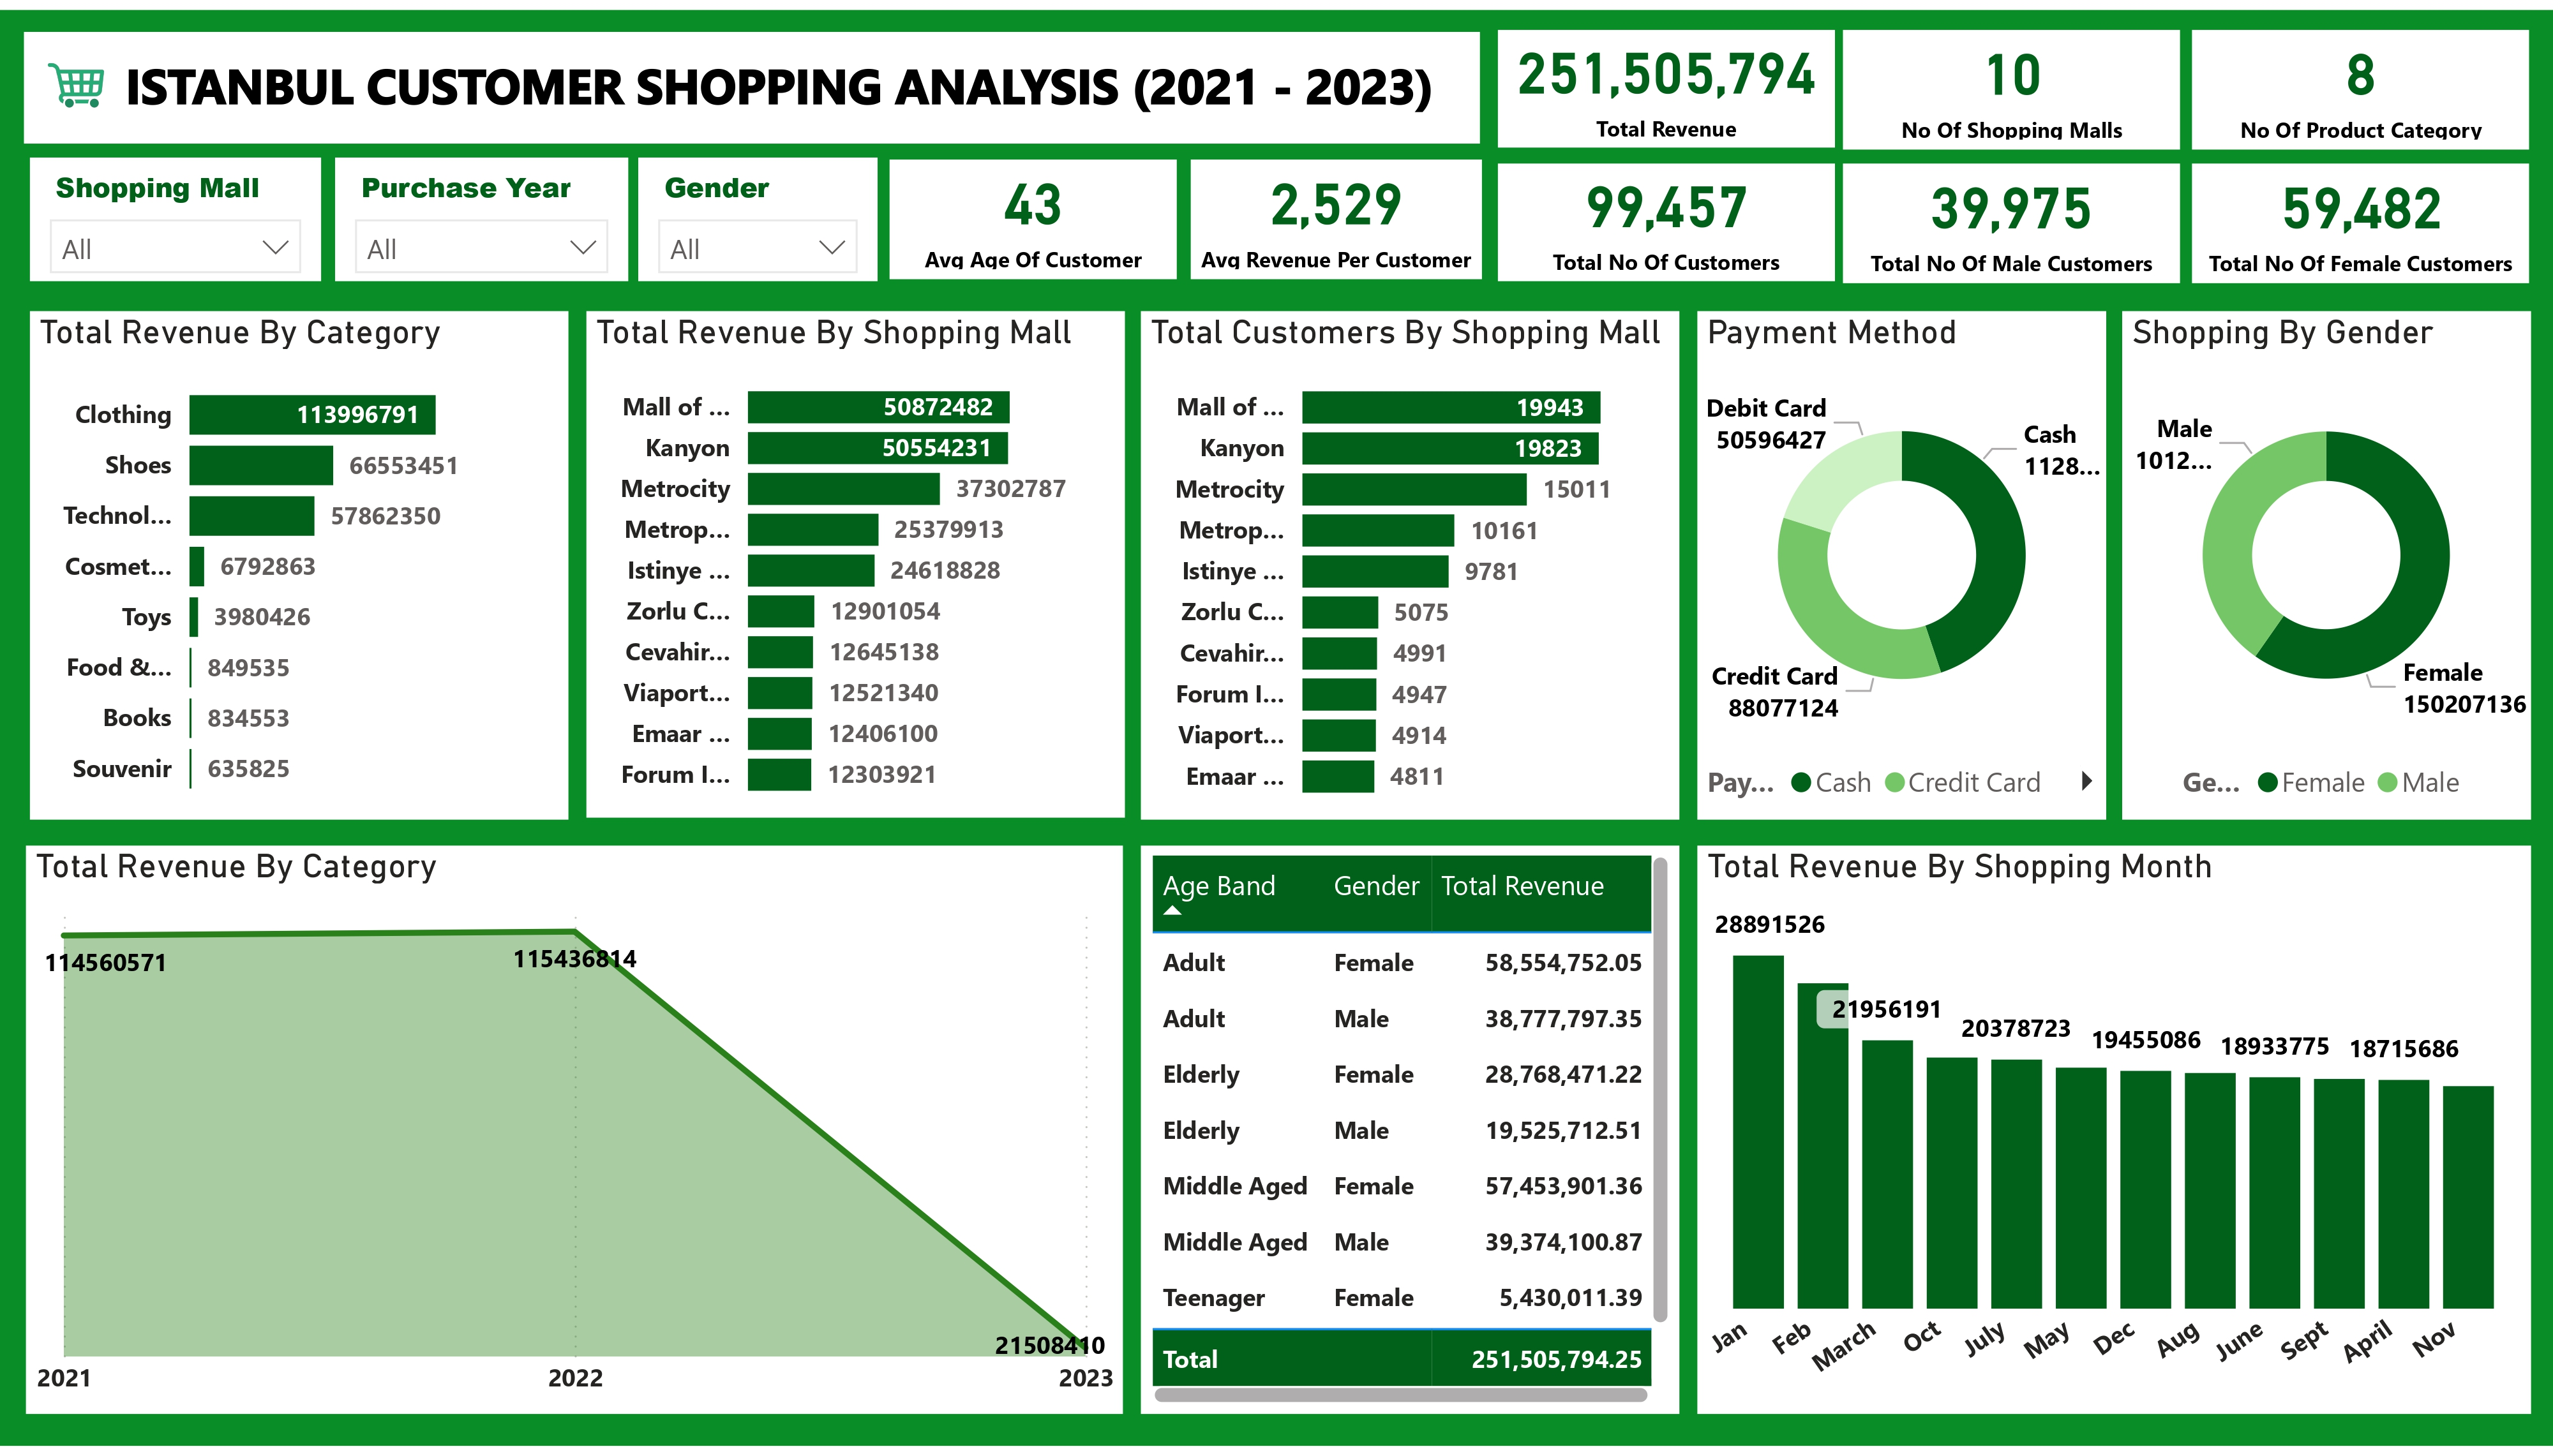

The page's visual inventory and layout, read from the dashboard file:
{"tool":"powerbi","page":{"name":"REPORT","canvas":[1280,720],"ordinal":0},"visuals":[{"type":"card","fields":{"Values":["DAX.Total Revenue"]},"box":[750.6,10.4,168.9,59.2],"z":0},{"type":"card","fields":{"Values":["DAX.Total No Of Customers"]},"box":[750.6,76.6,168.9,59.2],"z":1000},{"type":"card","fields":{"Values":["DAX.No Of Shopping Malls"]},"box":[924.4,10.1,169.4,60.4],"z":2000},{"type":"card","fields":{"Values":["DAX.No Of Category"]},"box":[1098.8,10.1,169.4,60.4],"z":3000},{"type":"card","fields":{"Values":["DAX.Total No Of Male Customers"]},"box":[924.4,77.2,169.4,60.4],"z":4000},{"type":"card","fields":{"Values":["DAX.Total No Of Female Customers"]},"box":[1098.8,77.2,169.4,60.4],"z":5000},{"type":"shape","box":[13.9,10.4,729.7,57.5],"z":6000},{"type":"card","fields":{"Values":["DAX.Avg Revenue Per Customer"]},"box":[597.2,75.5,146,60.4],"z":7000},{"type":"card","fields":{"Values":["DAX.Avg Age Of Customer"]},"box":[446.2,75.5,144.3,60.4],"z":8000},{"type":"slicer","fields":{"Values":["customer_shopping_data.invoice_year"]},"box":[167.7,73.5,147,61.9],"z":9000},{"type":"slicer","fields":{"Values":["customer_shopping_data.gender"]},"box":[320,73.5,120,61.9],"z":10000},{"type":"slicer","fields":{"Values":["customer_shopping_data.shopping_mall"]},"box":[15.1,73.8,146,62.1],"z":11000},{"type":"textbox","box":[22.6,13.9,715.8,57.5],"z":12000},{"type":"barChart","title":"Total Revenue By  Category","fields":{"Category":["customer_shopping_data.category"],"Y":["Sum(customer_shopping_data.total_revenue)"]},"box":[15.1,151,270,255],"z":13000},{"type":"barChart","title":"Total Revenue By  Shopping Mall","fields":{"Y":["Sum(customer_shopping_data.total_revenue)"],"Category":["customer_shopping_data.shopping_mall"]},"box":[293.6,151,270.1,255],"z":14000},{"type":"barChart","title":"Total Customers By  Shopping Mall","fields":{"Y":["DAX.Old Total No of Customers"],"Category":["customer_shopping_data.shopping_mall"]},"box":[572.1,151,270.1,255],"z":15000},{"type":"donutChart","title":"Payment Method","fields":{"Y":["DAX.Old Total Revenue"],"Category":["customer_shopping_data.payment_method"]},"box":[850.5,151,205,255],"z":16000},{"type":"donutChart","title":"Shopping By Gender","fields":{"Y":["DAX.Old Total Revenue"],"Category":["customer_shopping_data.gender"]},"box":[1063.6,151,204.7,255],"z":17000},{"type":"barChart","title":"Total Revenue By Age Band & Product Category","fields":{"Category":["customer_shopping_data.age_band"],"Y":["DAX.Old Total Revenue"],"Series":["customer_shopping_data.category"]},"box":[13.4,419.4,550.2,285.2],"z":18000},{"type":"lineClusteredColumnComboChart","title":"Total Revenue By  Shopping Month","fields":{"Category":["customer_shopping_data.invoice_month"],"Y":["Sum(customer_shopping_data.total_revenue)"]},"box":[850.5,419.4,417.7,285.2],"z":19000},{"type":"tableEx","title":"Total Revenue By  Category","fields":{"Values":["customer_shopping_data.age_band","customer_shopping_data.gender","Sum(customer_shopping_data.total_revenue)"]},"box":[572.1,419.4,270.1,285.2],"z":20000}]}

Visuals, with their boxes in screenshot pixels (x1, y1, x2, y2), scaled from the page's 1280x720 canvas onto the 2553x1456 screenshot:
card - DAX.Total Revenue: 1497, 21, 1834, 141
card - DAX.Total No Of Customers: 1497, 155, 1834, 274
card - DAX.No Of Shopping Malls: 1844, 20, 2182, 142
card - DAX.No Of Category: 2192, 20, 2529, 142
card - DAX.Total No Of Male Customers: 1844, 156, 2182, 278
card - DAX.Total No Of Female Customers: 2192, 156, 2529, 278
shape: 27, 21, 1483, 137
card - DAX.Avg Revenue Per Customer: 1191, 152, 1482, 275
card - DAX.Avg Age Of Customer: 890, 152, 1178, 275
slicer - customer_shopping_data.invoice_year: 334, 149, 627, 274
slicer - customer_shopping_data.gender: 638, 149, 878, 274
slicer - customer_shopping_data.shopping_mall: 30, 149, 321, 275
textbox: 45, 28, 1473, 144
"Total Revenue By  Category" barChart: 30, 306, 569, 821
"Total Revenue By  Shopping Mall" barChart: 586, 306, 1125, 821
"Total Customers By  Shopping Mall" barChart: 1141, 306, 1680, 821
"Payment Method" donutChart: 1696, 306, 2105, 821
"Shopping By Gender" donutChart: 2122, 306, 2529, 821
"Total Revenue By Age Band & Product Category" barChart: 27, 848, 1124, 1425
"Total Revenue By  Shopping Month" lineClusteredColumnComboChart: 1696, 848, 2529, 1425
"Total Revenue By  Category" tableEx: 1141, 848, 1680, 1425
